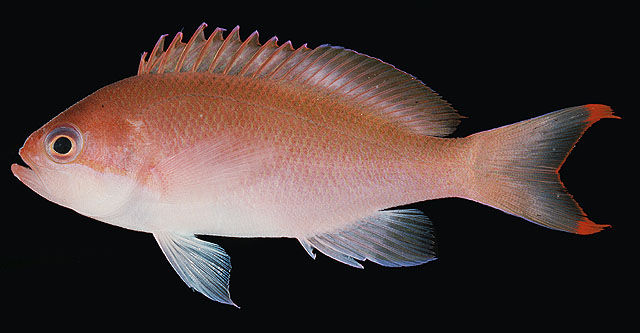fish: (11, 22, 623, 310)
